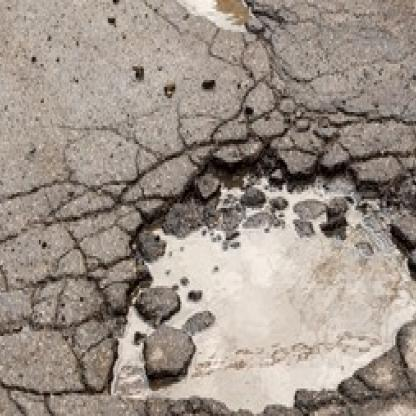pothole: (101, 144, 416, 409), (159, 0, 263, 41)
